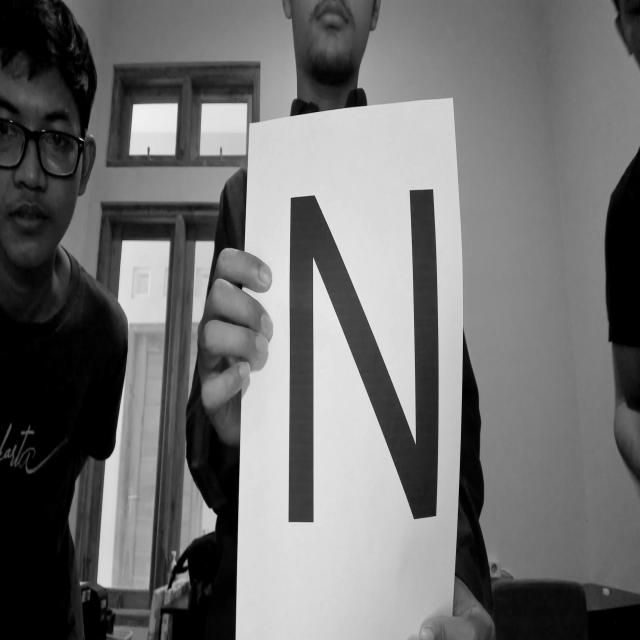n: (277, 160, 458, 563)
